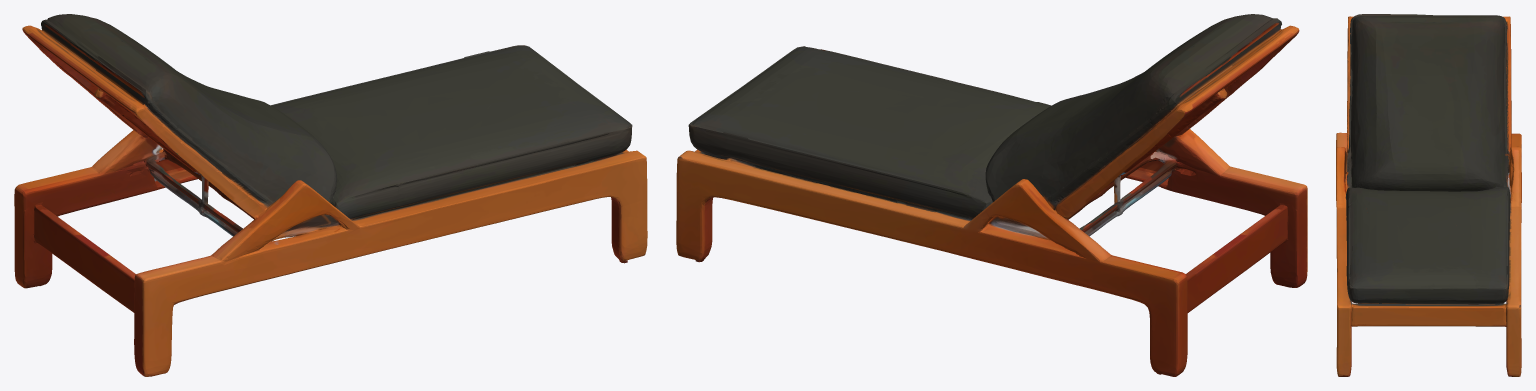
The picture shows the model from 3 angles, left to right: view 1: azimuth 30°, elevation 25°; view 2: azimuth 150°, elevation 25°; view 3: azimuth 270°, elevation 25°; orthographic projection. The views are drawn at different scales.
Visible parts, largest first — view 1: lounge_chair_20.obj; view 2: lounge_chair_20.obj; view 3: lounge_chair_20.obj.
Part boxes in pixels (<box>): lounge_chair_20.obj: <box>14,14,647,376</box>; lounge_chair_20.obj: <box>676,14,1307,376</box>; lounge_chair_20.obj: <box>1336,14,1521,376</box>.
Bounding box in the file's own units: 0.9 × 0.482 × 0.4035.
1 material, 1 textured.
